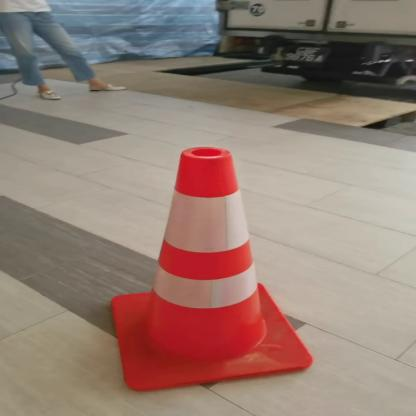cone: (75, 136, 342, 390)
